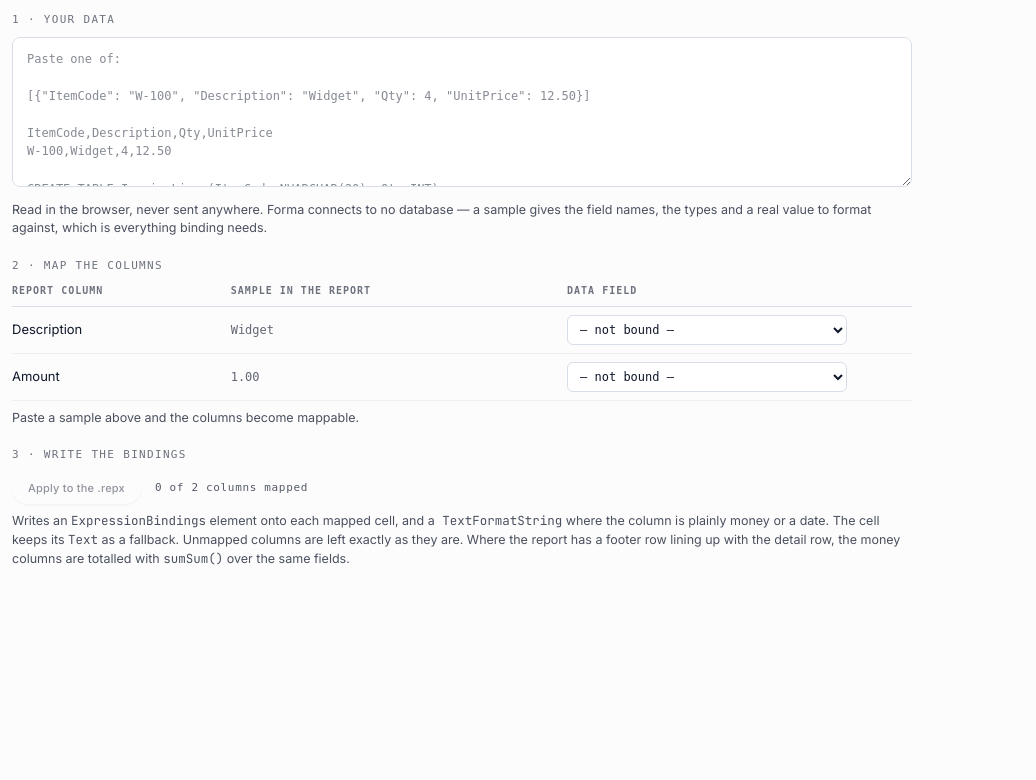
mapping columns to fields › reads a pasted schema and suggests a mapping
Replace the text in the text box named "Paste a data sample or schema" with "CREATE TABLE T (DESCR NVARCHAR(200), NET_AMOUNT DECIMAL(10,2))" at (462,112), box [12,36,912,186]
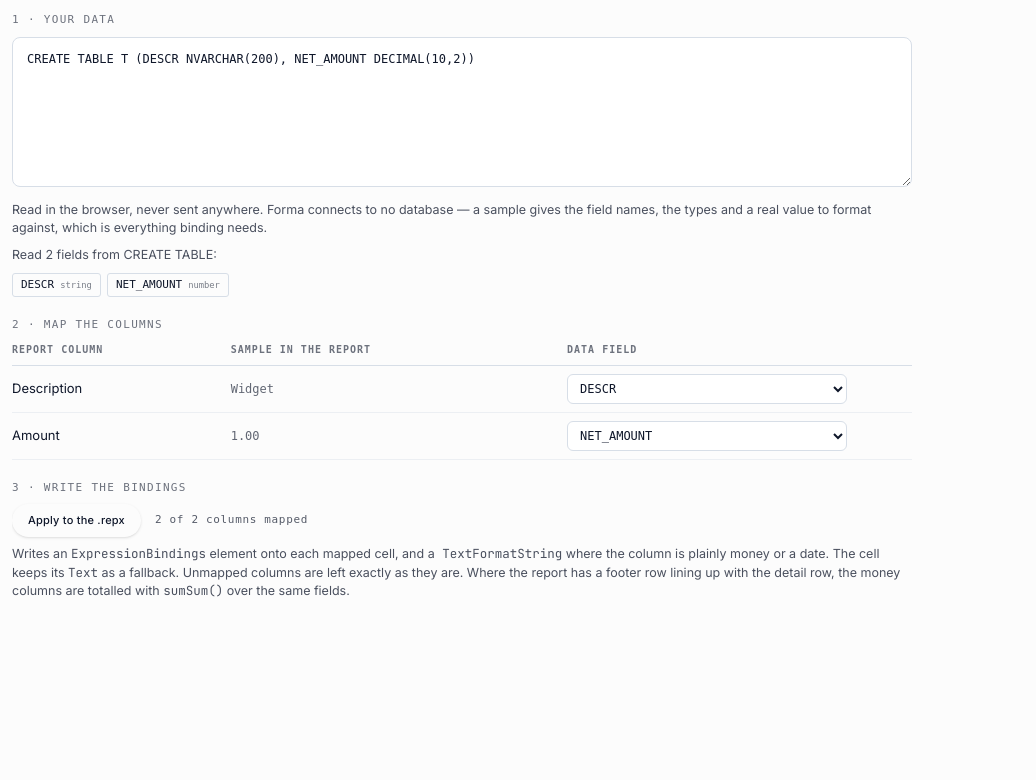
expect the text "Read 2 fields from CREATE TABLE:" is shown: met, box [12,247,217,262]
